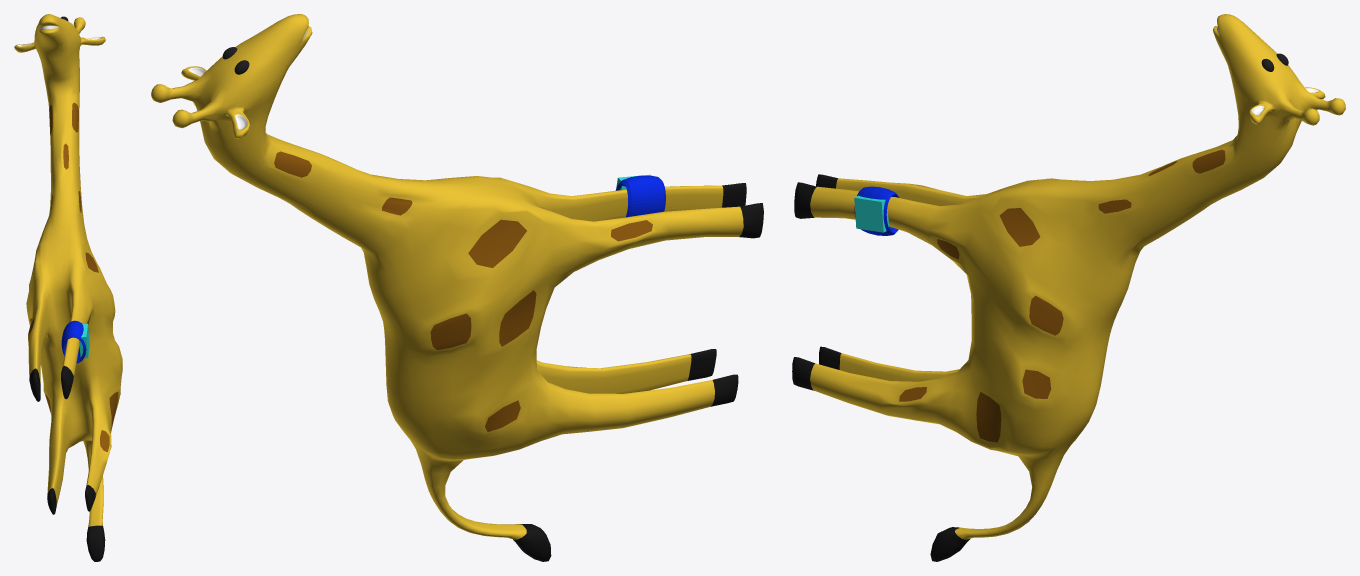
File: giraffeOmgedraaid.glb
3 renders of one model, left to right at view 1: azimuth 30°, elevation 25°; view 2: azimuth 150°, elevation 25°; view 3: azimuth 270°, elevation 25°, orthographic. The views are drawn at different scales.
Visible parts, largest first — view 1: Plane, Torus, Cube; view 2: Plane, Torus; view 3: Plane, Cube, Torus.
Part boxes in pixels (x1,y1,x2,y2): Plane: (14, 14, 122, 561); Torus: (61, 320, 86, 363); Cube: (79, 323, 89, 358); Plane: (151, 14, 763, 561); Torus: (615, 175, 665, 217); Plane: (792, 14, 1345, 561); Cube: (854, 195, 888, 232); Torus: (854, 186, 899, 235).
Size of the model in its own units: 1.34 by 2.38 by 2.04.
